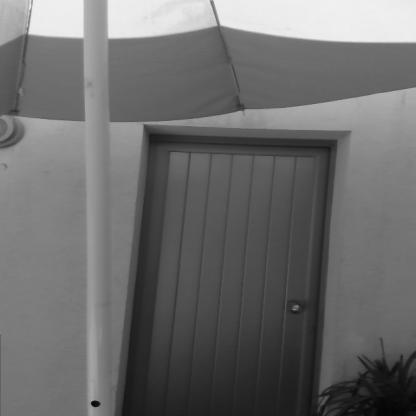closed: (122, 104, 358, 409)
